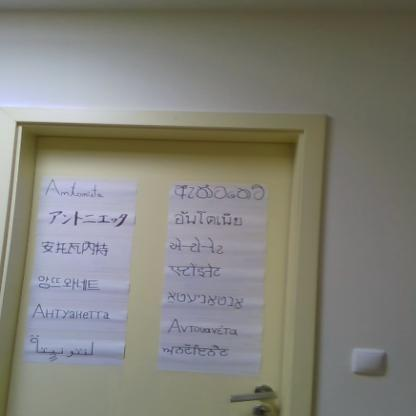door: (32, 132, 284, 416)
lever: (224, 387, 280, 405)
